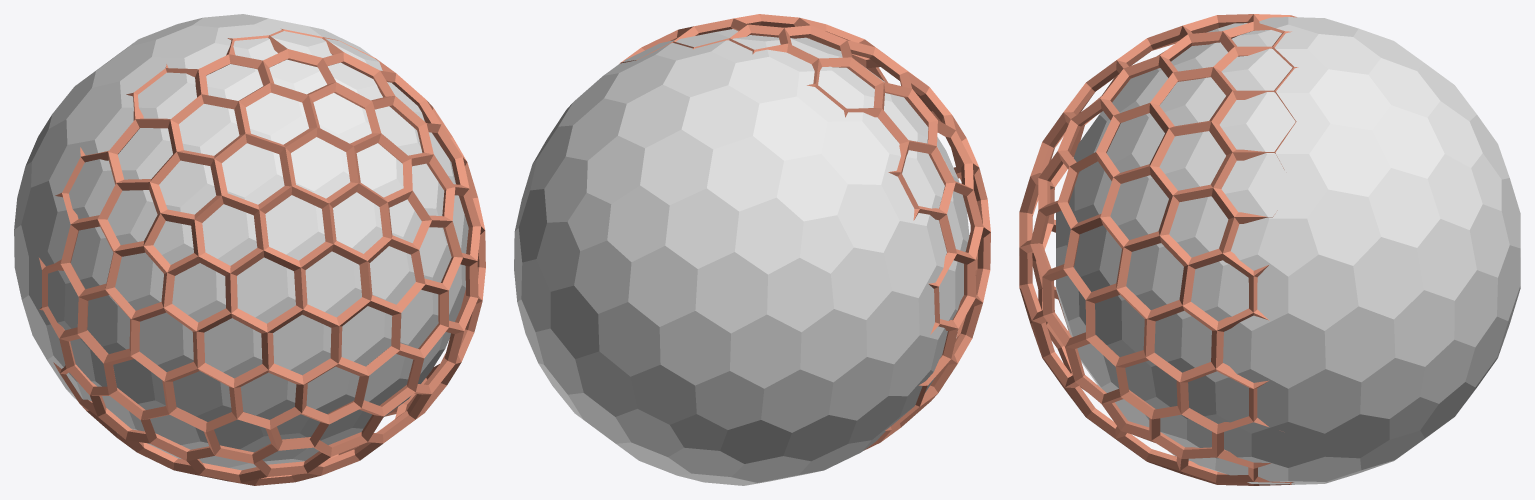
The model's file is fragment1.fbx.
The picture shows the model from 3 angles, left to right: view 1: azimuth 30°, elevation 25°; view 2: azimuth 150°, elevation 25°; view 3: azimuth 270°, elevation 25°; orthographic projection. The views are drawn at different scales.
Visible parts, largest first — view 1: Icosphere.001, Icosphere; view 2: Icosphere.001, Icosphere; view 3: Icosphere.001, Icosphere.
Part boxes in pixels (left/top/right/bottom): Icosphere.001: left=14, top=14, right=468, bottom=470; Icosphere: left=39, top=29, right=485, bottom=485; Icosphere.001: left=514, top=29, right=969, bottom=485; Icosphere: left=619, top=14, right=990, bottom=450; Icosphere.001: left=1056, top=17, right=1520, bottom=484; Icosphere: left=1019, top=14, right=1298, bottom=485.
Bounding box in the file's own units: 147 × 148 × 156.
